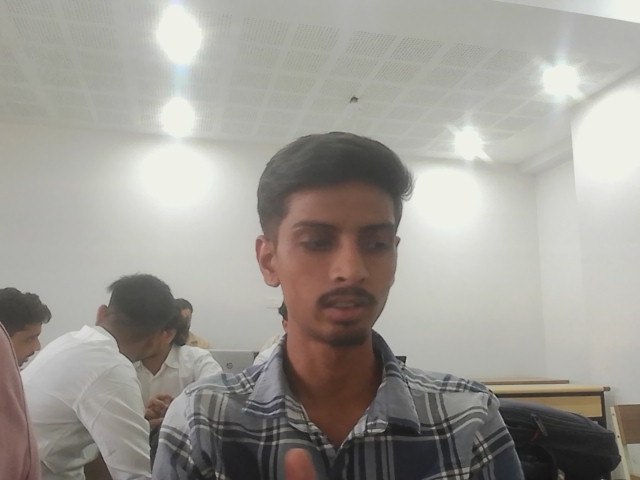light_off: (547, 233, 571, 280)
light_on: (560, 80, 639, 127), (443, 115, 493, 162), (615, 5, 636, 25)
person: (22, 269, 237, 479), (0, 293, 46, 479), (0, 288, 54, 365)
